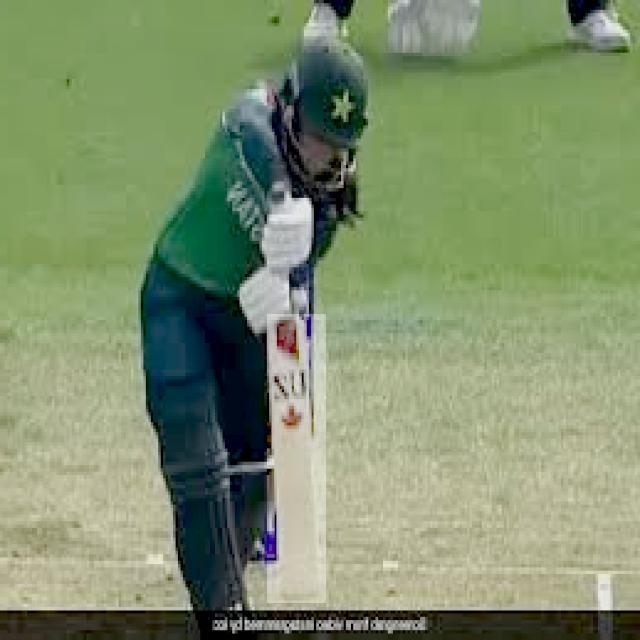bat: (265, 318, 333, 608)
toe: (270, 591, 326, 606)
